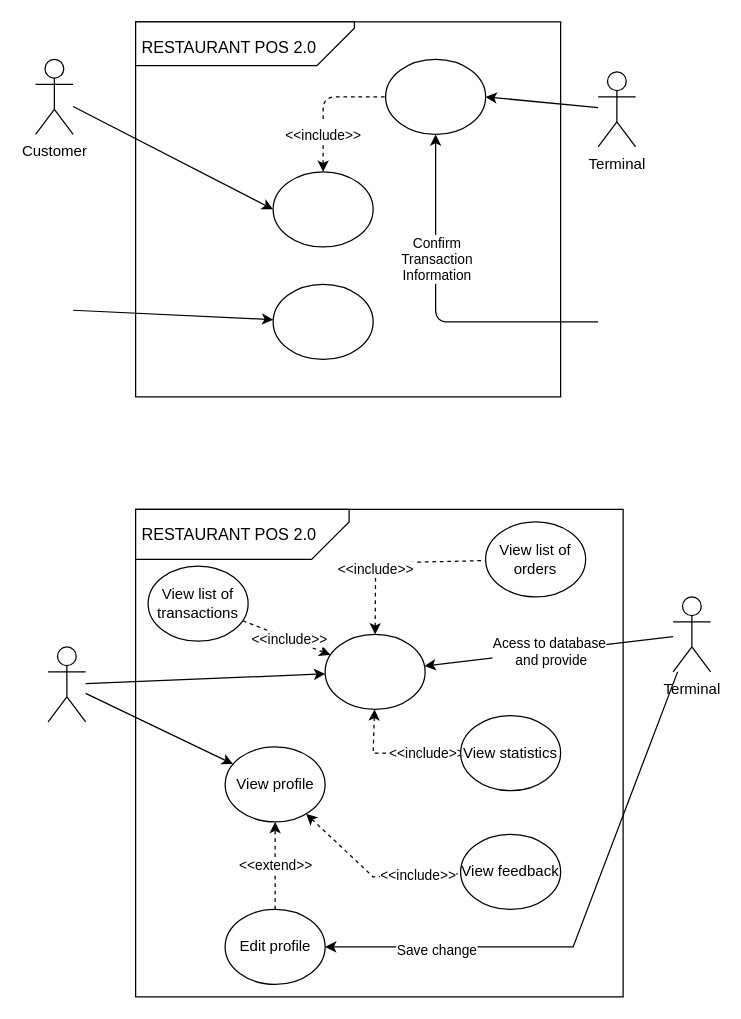
This 741x1019 diagram has some shape labels left out. Here are the shapes that lost their labels. From the top down, the centre of each, then its label:
the point at 435,96: Save transaction information
the point at 322,209: Pay for food
the point at 322,321: Inform kitchen
the point at 66,684: Administrator
the point at 374,671: View history
